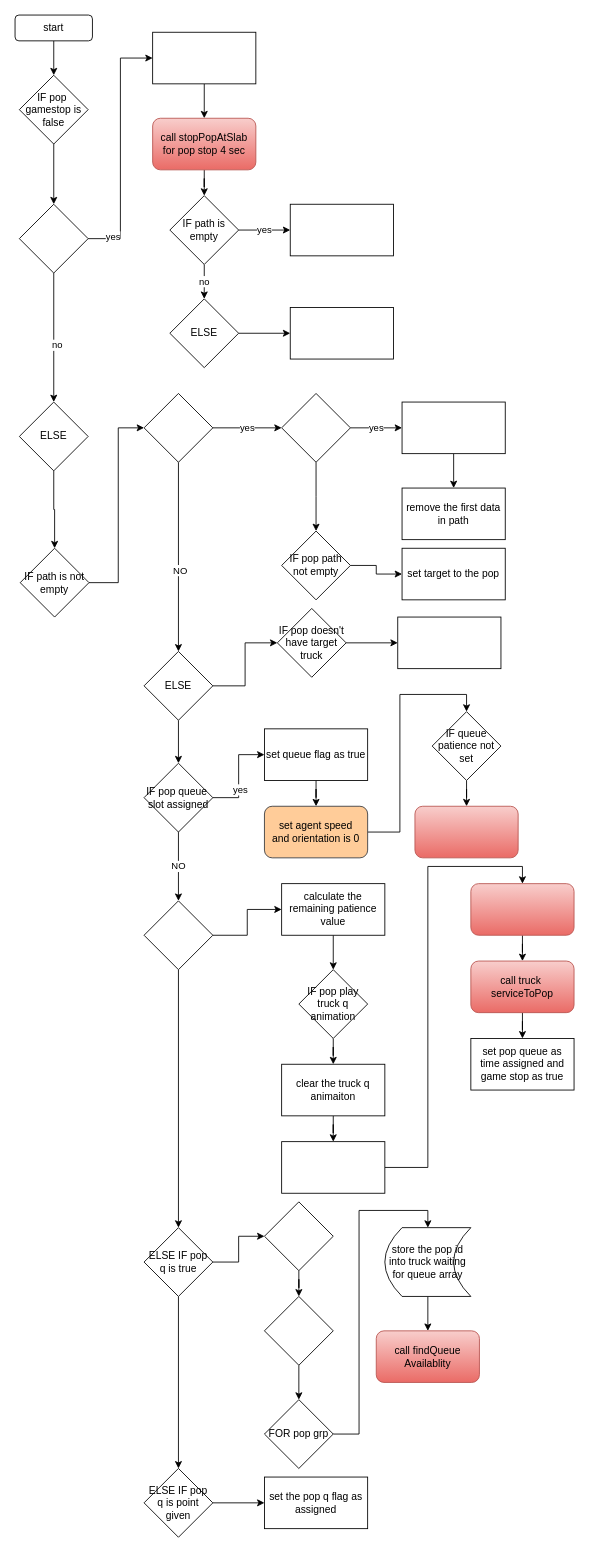
Some shapes in this 589 by 1552 pixel diagram are drawn without their labels. The shapes that lost their labels are listed below. From the top down, each one's centre as x and y in pixels, then its label:
At point 204,57: "remove the path instruction".
At point 53,238: "IF pop is leader and reached point is slab".
At point 341,229: "set pop stop at slab flag as false".
At point 341,333: "set pop next target from the path array".
At point 178,427: "IF pop food queue false".
At point 315,427: "IF pop reached point = path first data".
At point 453,427: "set the current path as previous".
At point 449,642: "set the target truck id".
At point 466,831: "call setQueuePatience Value".
At point 522,909: "call setAnimation".
At point 178,935: "ELSE IF pop q is stop and pop is first in queue".
At point 333,1167: "construct truck decide animaiton".
At point 298,1236: "IF pop is leader".
At point 298,1330: "IF pop id not in truck waiting point".
